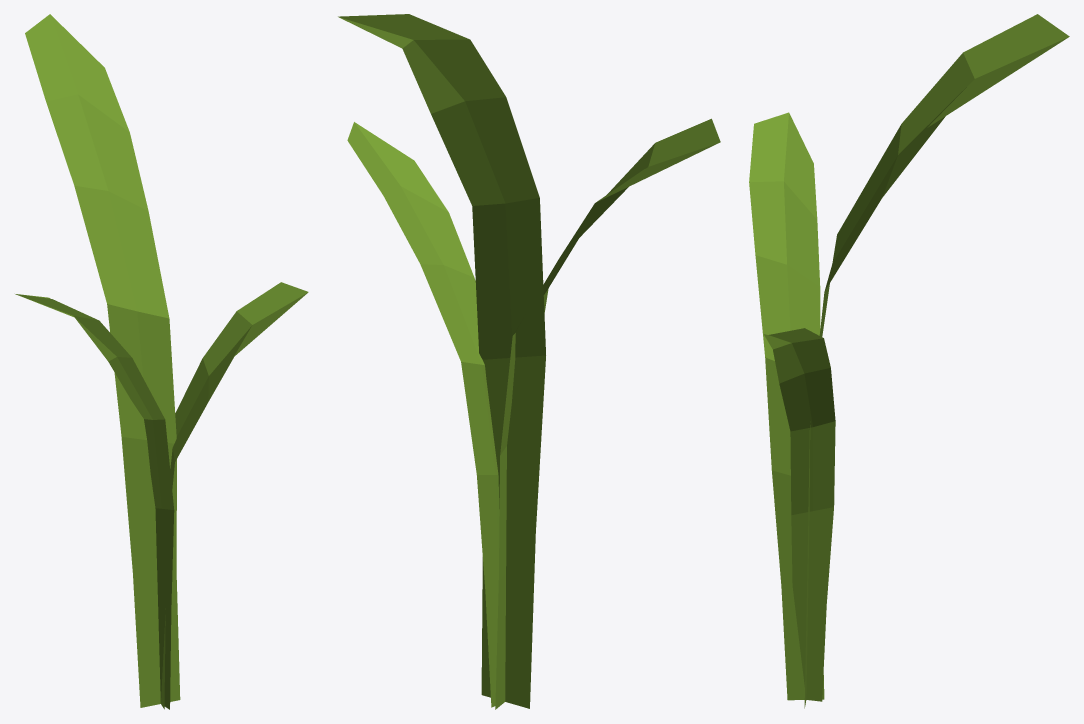
File: tallgrass2.glb
3 renders of one model, left to right at view 1: azimuth 30°, elevation 25°; view 2: azimuth 150°, elevation 25°; view 3: azimuth 270°, elevation 25°, orthographic. The views are drawn at different scales.
Parts seen in each view (by area): view 1: tallgrass2; view 2: tallgrass2; view 3: tallgrass2.
Part boxes in pixels (x1=…): tallgrass2: x1=15, y1=14, x2=308, y2=709; tallgrass2: x1=338, y1=14, x2=720, y2=709; tallgrass2: x1=749, y1=14, x2=1069, y2=708.
Size of the model in its own units: 1.38 by 2.77 by 1.21.
1 material, 1 textured.
